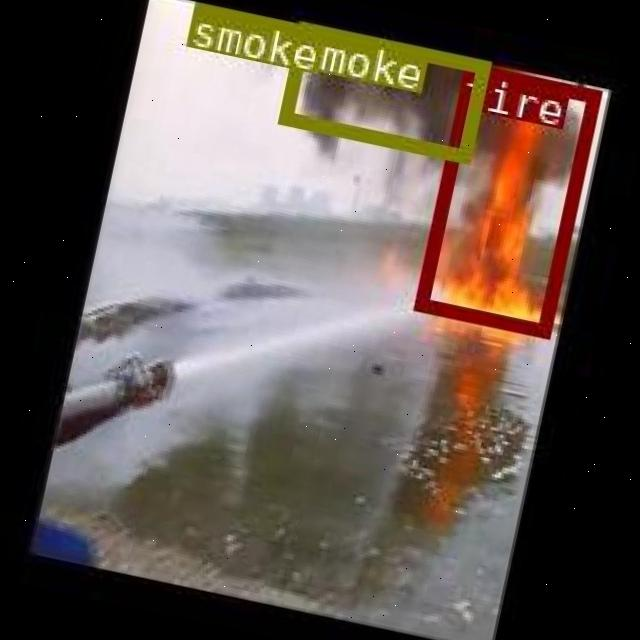fire: (413, 59, 599, 334)
smoke: (276, 18, 490, 160), (185, 0, 287, 61)
